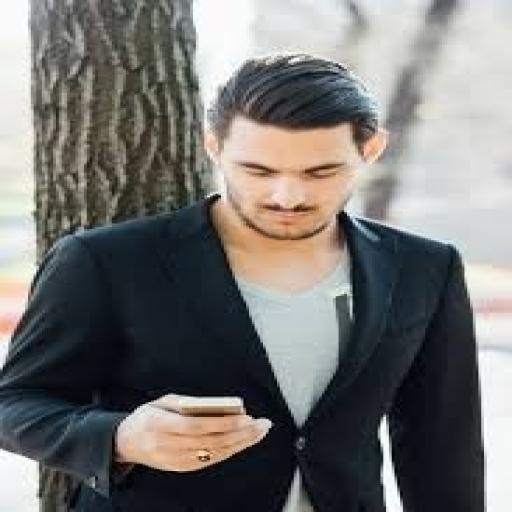texting: (0, 50, 490, 510)
